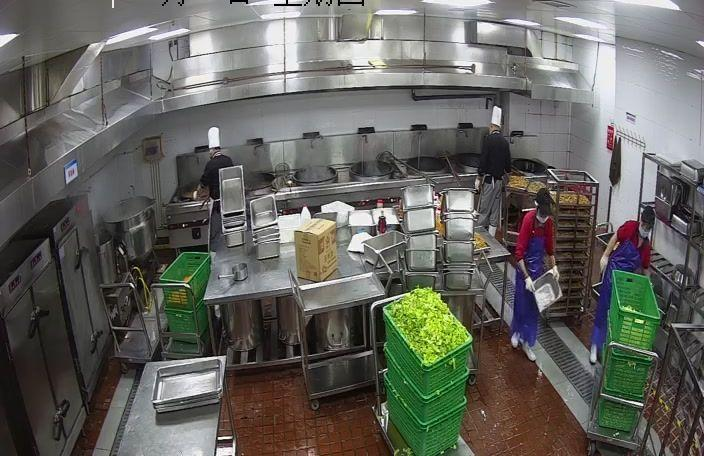mask: (640, 225, 651, 238)
